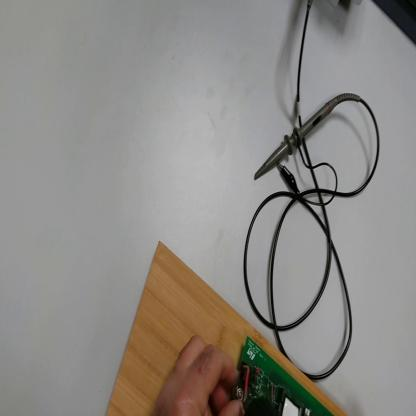hand: (154, 333, 245, 413)
high voltage board: (229, 339, 330, 416)
oscilloscope probe tip: (254, 90, 342, 183)
working area: (105, 245, 345, 416)
